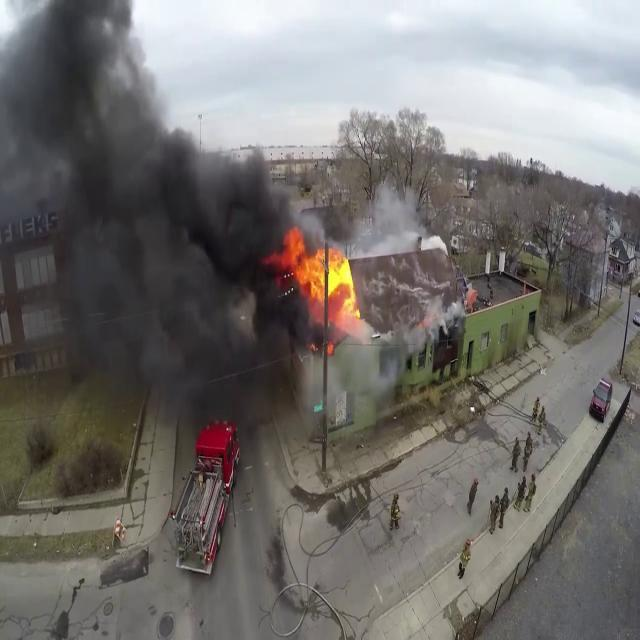Fire: (278, 222, 364, 332)
Smoke: (1, 2, 296, 437)
